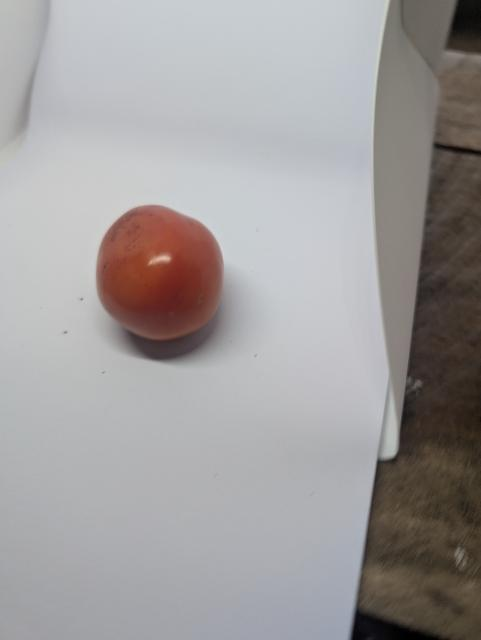red: (94, 203, 227, 344)
